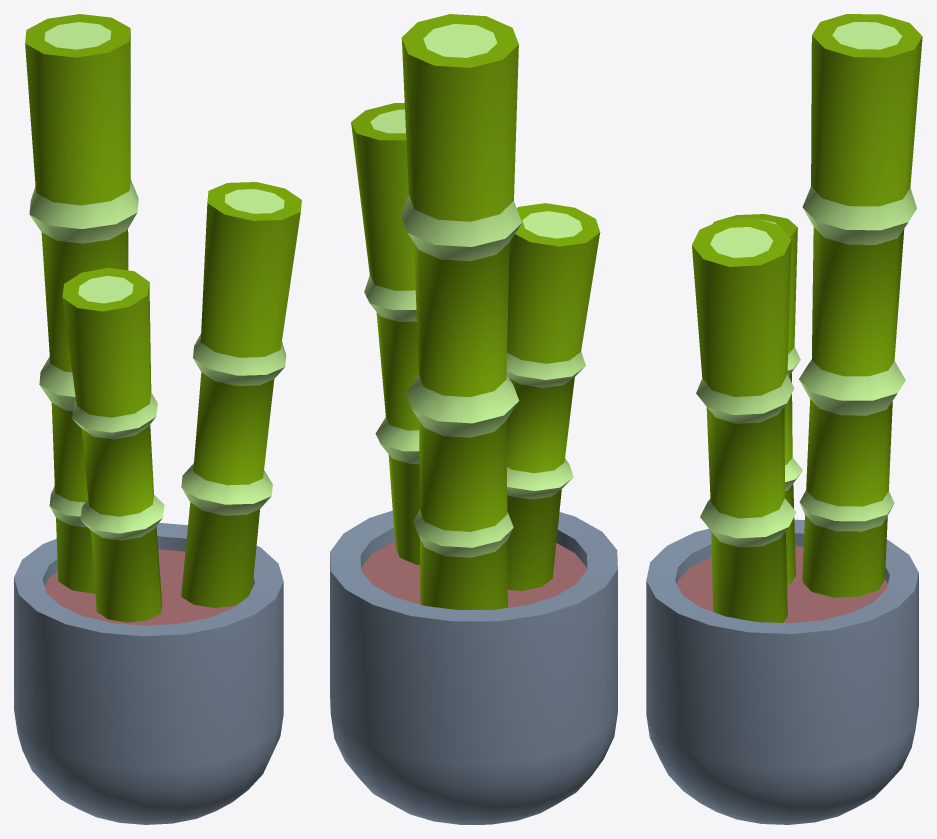
The model's file is cc0-bamboo-lod0.glb.
3 views of the same model, side by side, from view 1: azimuth 30°, elevation 25°; view 2: azimuth 150°, elevation 25°; view 3: azimuth 270°, elevation 25° (orthographic). The views are drawn at different scales.
Visible parts, largest first — view 1: part_0; view 2: part_0; view 3: part_0.
Boxes of the visible parts, <box> form: part_0: <box>14,14,301,824</box>; part_0: <box>330,14,617,824</box>; part_0: <box>646,14,922,824</box>.
Bounding box in the file's own units: 0.9851 × 2.88 × 0.9567.
Materials: 1 (1 with a texture image).
